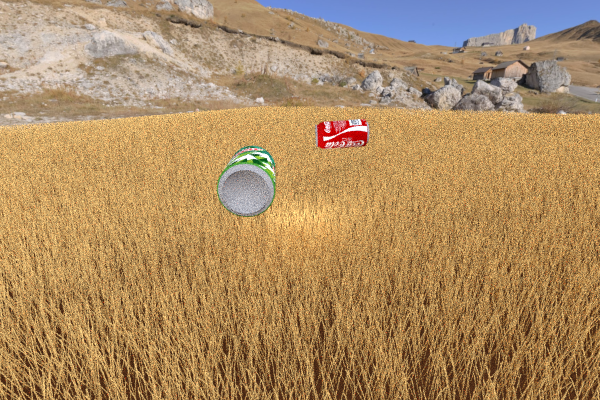bottle: (24, 142, 103, 204)
can: (216, 145, 275, 217), (315, 119, 369, 149)
